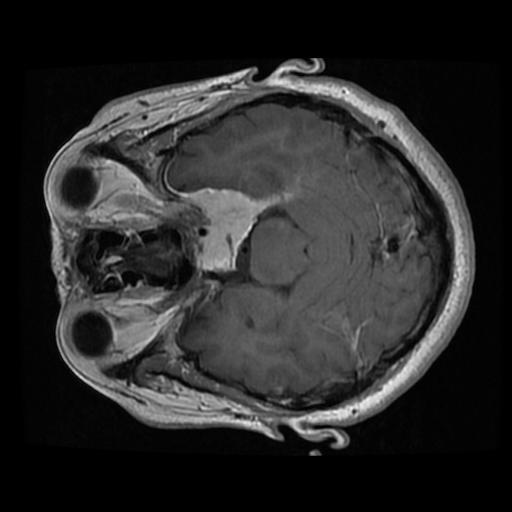meningioma: (182, 186, 290, 273)
